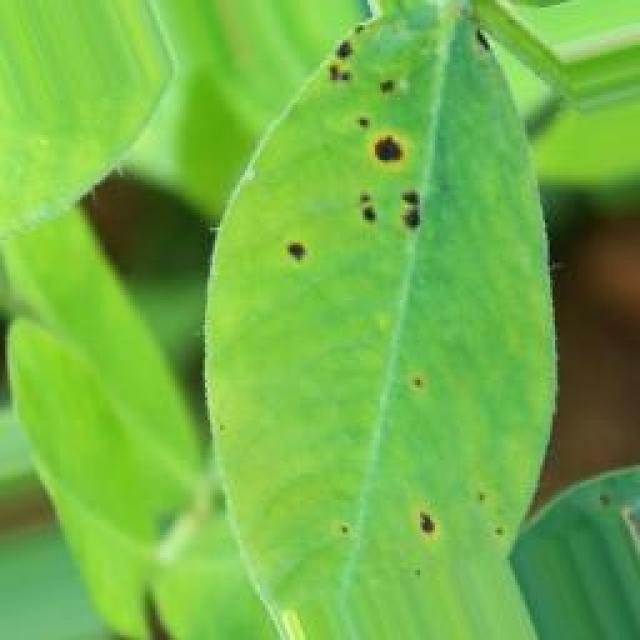Sigatoka: (344, 84, 435, 237), (410, 4, 494, 87), (390, 476, 454, 550), (319, 14, 377, 92), (449, 491, 513, 559), (267, 212, 327, 283), (406, 358, 463, 409), (332, 508, 375, 552)
